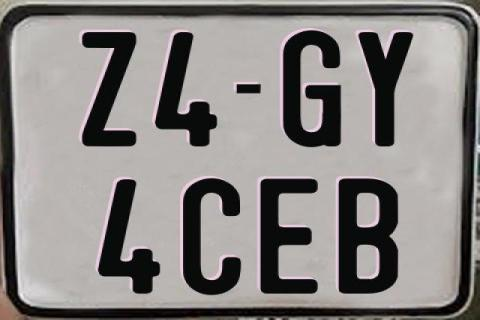0: (96, 180, 162, 298), (152, 32, 217, 150)
B: (338, 178, 401, 298)
C: (180, 178, 242, 296)
E: (258, 178, 322, 294)
G: (282, 28, 340, 146)
Y: (356, 30, 416, 148)
Z: (79, 31, 134, 148)
